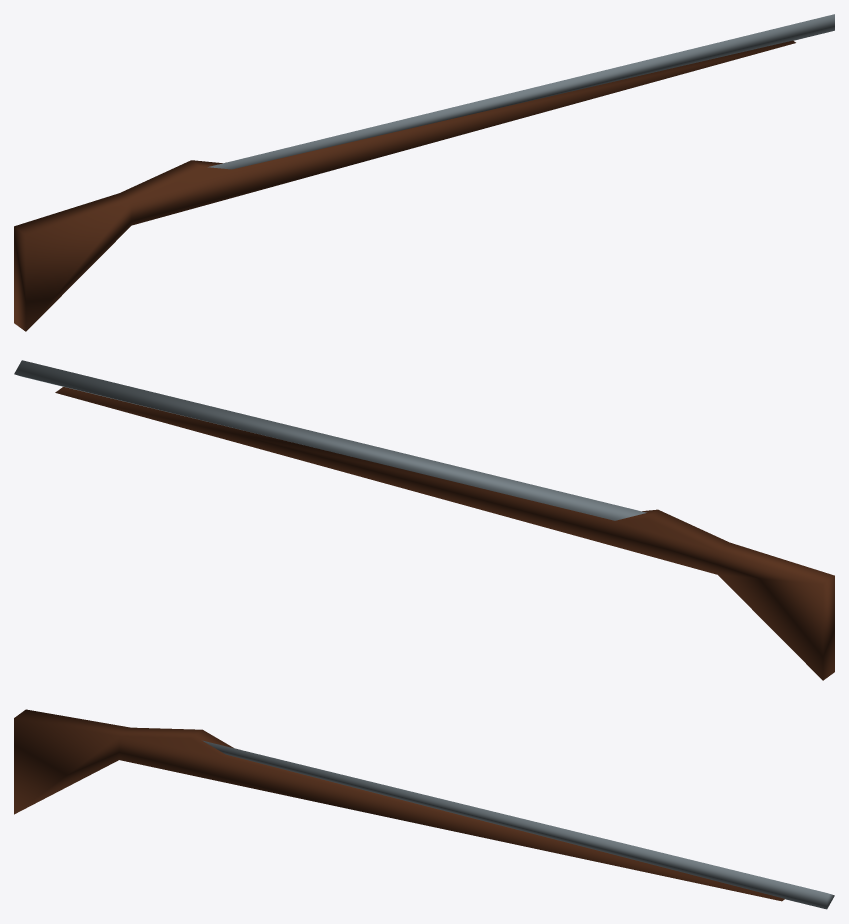
The model's file is caplock_musket_lod2.glb.
The picture shows the model from 3 angles, top to bottom: view 1: azimuth 30°, elevation 25°; view 2: azimuth 150°, elevation 25°; view 3: azimuth 330°, elevation 25°; orthographic projection.
Visible parts, largest first — view 1: WeaponMesh.019; view 2: WeaponMesh.019; view 3: WeaponMesh.019.
Boxes of the visible parts, x1,y1,x2,y2 form: WeaponMesh.019: (14, 14, 834, 331); WeaponMesh.019: (14, 360, 834, 680); WeaponMesh.019: (14, 709, 834, 909).
Bounding box in the file's own units: 2.04 × 0.287 × 0.052.
